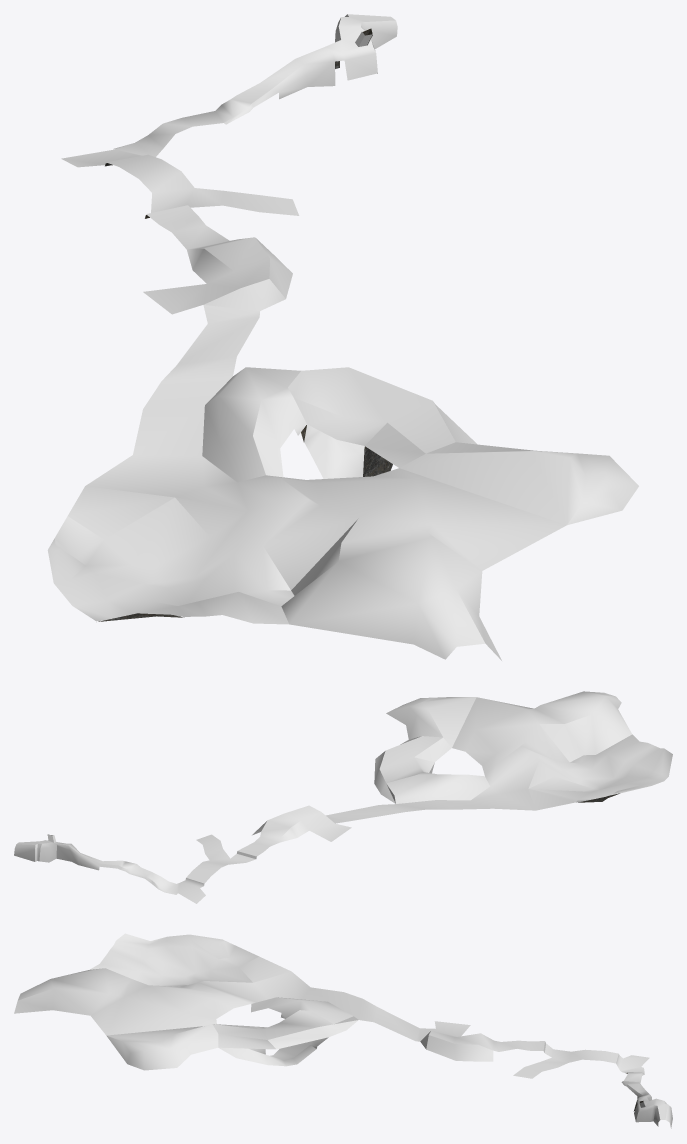
The model's file is Cave System Main Cover.gltf.
The picture shows the model from 3 angles, top to bottom: view 1: azimuth 30°, elevation 25°; view 2: azimuth 150°, elevation 25°; view 3: azimuth 270°, elevation 25°; orthographic projection. The views are drawn at different scales.
Parts seen in each view (by area): view 1: Top, Bottom-Mat; view 2: Top; view 3: Top.
Part boxes in pixels (x1,y1,x2,y2): Top: (47,14,638,660); Bottom-Mat: (98,28,392,621); Top: (14,691,672,903); Top: (14,933,672,1128).
Bounding box in the file's own units: 379 × 45.98 × 526.
1 material, 1 textured.
